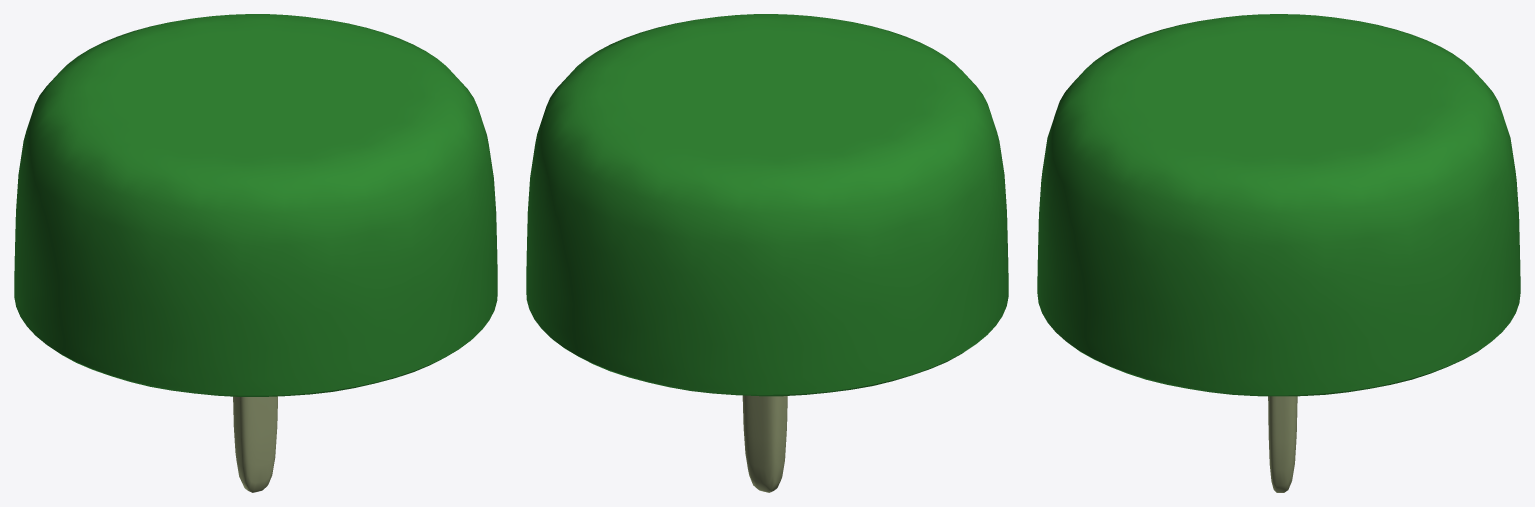
File: Mushrom 5.fbx
3 renders of one model, left to right at view 1: azimuth 30°, elevation 25°; view 2: azimuth 150°, elevation 25°; view 3: azimuth 270°, elevation 25°, orthographic.
Parts seen in each view (by area): view 1: Cylinder, Cube; view 2: Cylinder, Cube; view 3: Cylinder, Cube.
Boxes of the visible parts, bbox=[...] form: Cylinder: bbox=[14, 14, 497, 396]; Cube: bbox=[233, 396, 277, 492]; Cylinder: bbox=[526, 14, 1008, 396]; Cube: bbox=[742, 395, 787, 492]; Cylinder: bbox=[1037, 14, 1520, 396]; Cube: bbox=[1268, 396, 1297, 492].
Bounding box in the file's own units: 207 × 188 × 207.
